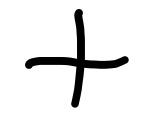plus: (23, 8, 129, 107)
